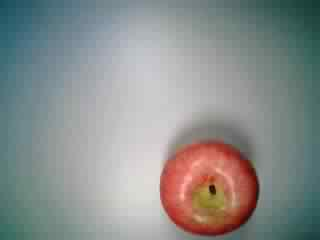apple: (157, 136, 261, 237)
